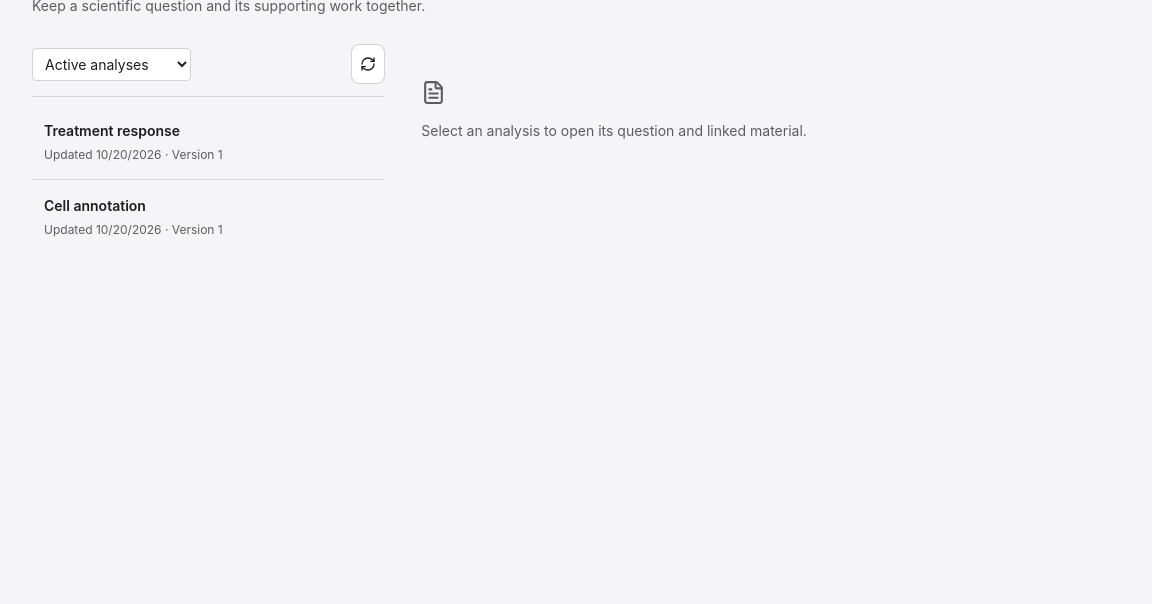
Test: durable project analyses › keeps edited source through a conflict and rebases only after an explicit choice
The width and height of the screenshot is (1152, 604).
Click the button "Treatment response Updated 10/20/2026 · Version 1": (112, 130) [32, 105, 385, 179]
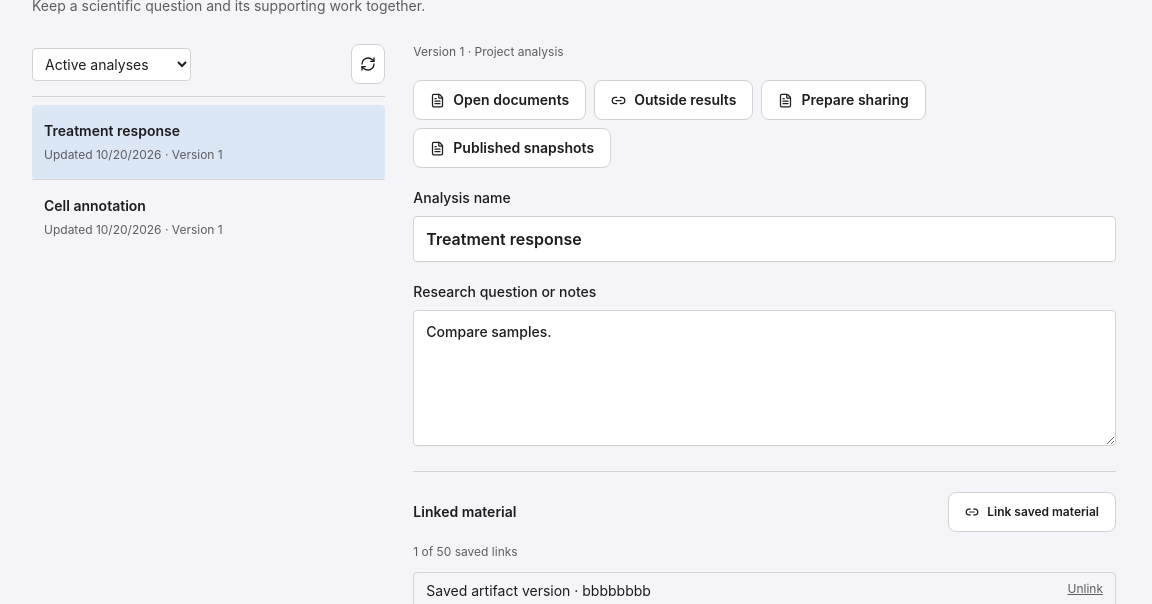
expect the field labelled "Analysis name" holds "Treatment response": met
Replace the text in the field labelled "Analysis name" with "My edited question": (765, 239) [413, 216, 1116, 262]
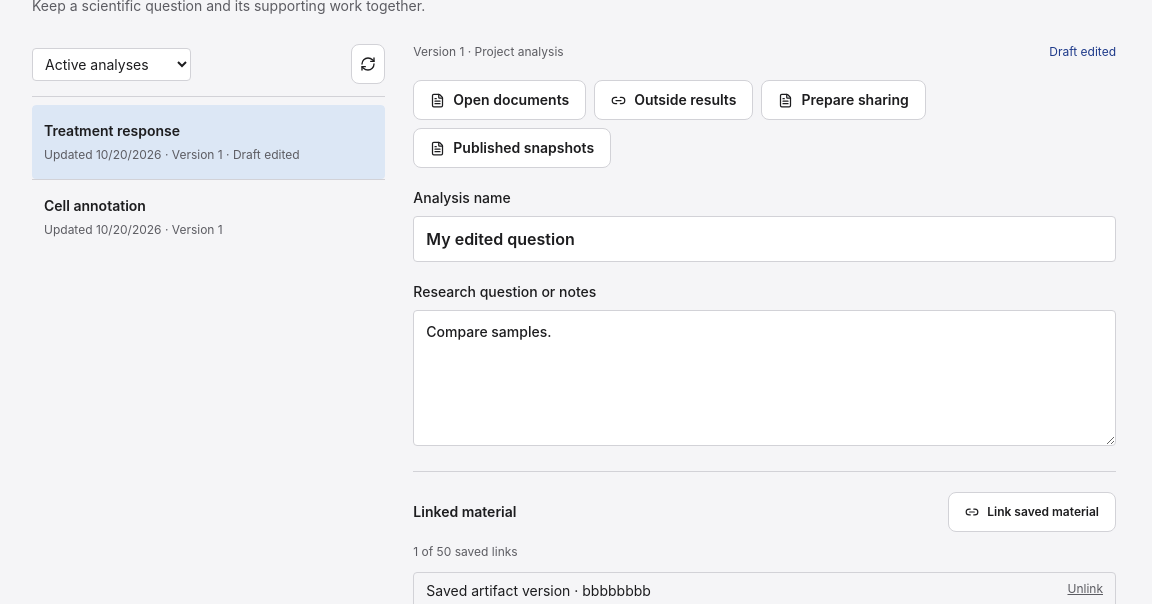
Replace the text in the text box labelled "Research question or notes" with "My interpretation.": (765, 378) [413, 310, 1116, 446]
(page scrolled)
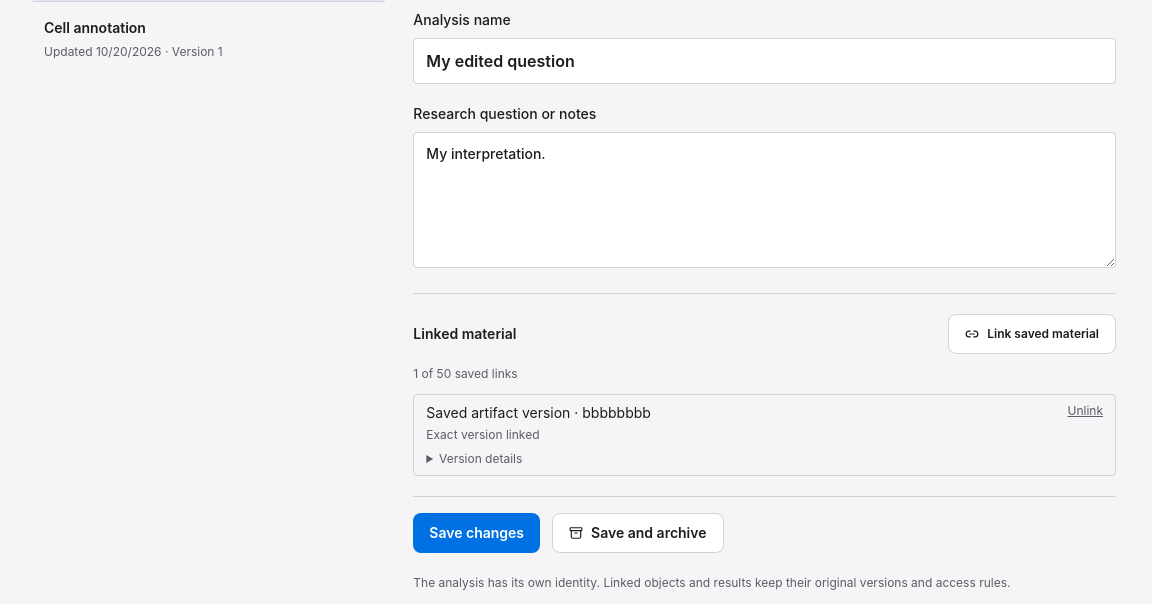
Click the button "Save changes": (477, 533) [413, 513, 540, 553]
(page scrolled)
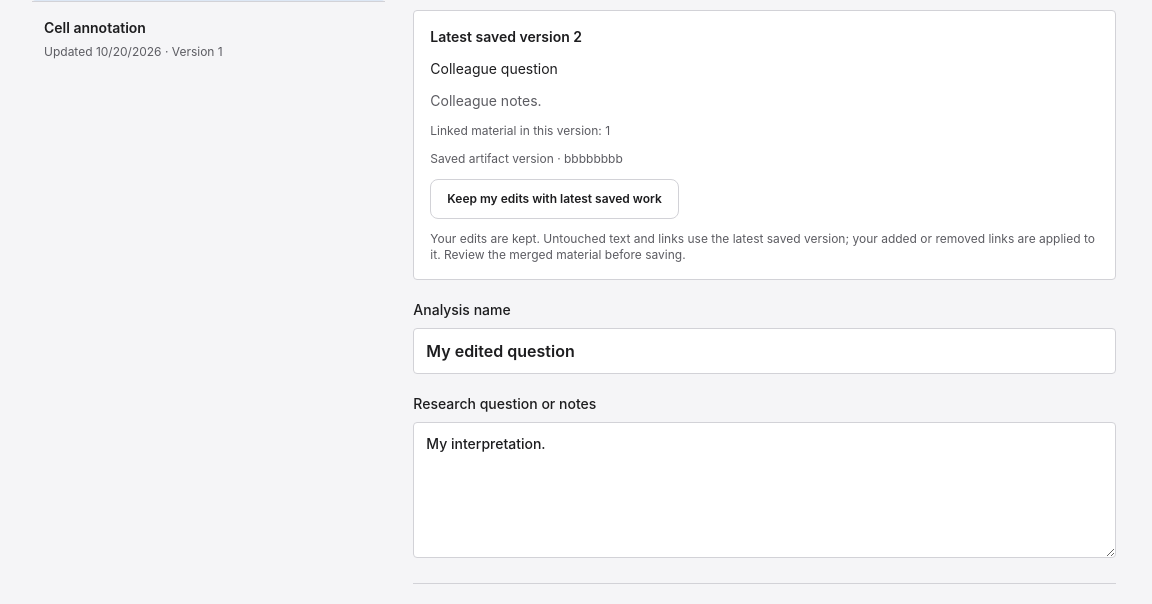
expect the element named "Newer saved version" is shown: met, box [413, 10, 1116, 280]
Click the button "Keep my edits with latest saved work": (555, 199) [430, 179, 679, 219]
(page scrolled)
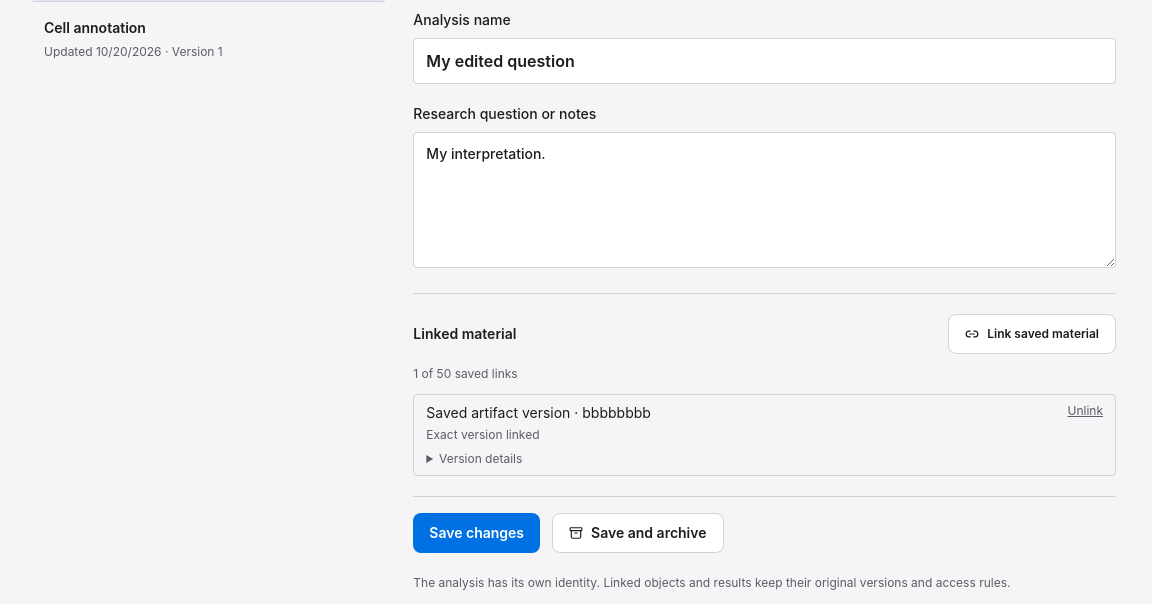
Click the button "Save changes": (477, 533) [413, 513, 540, 553]
(page scrolled)
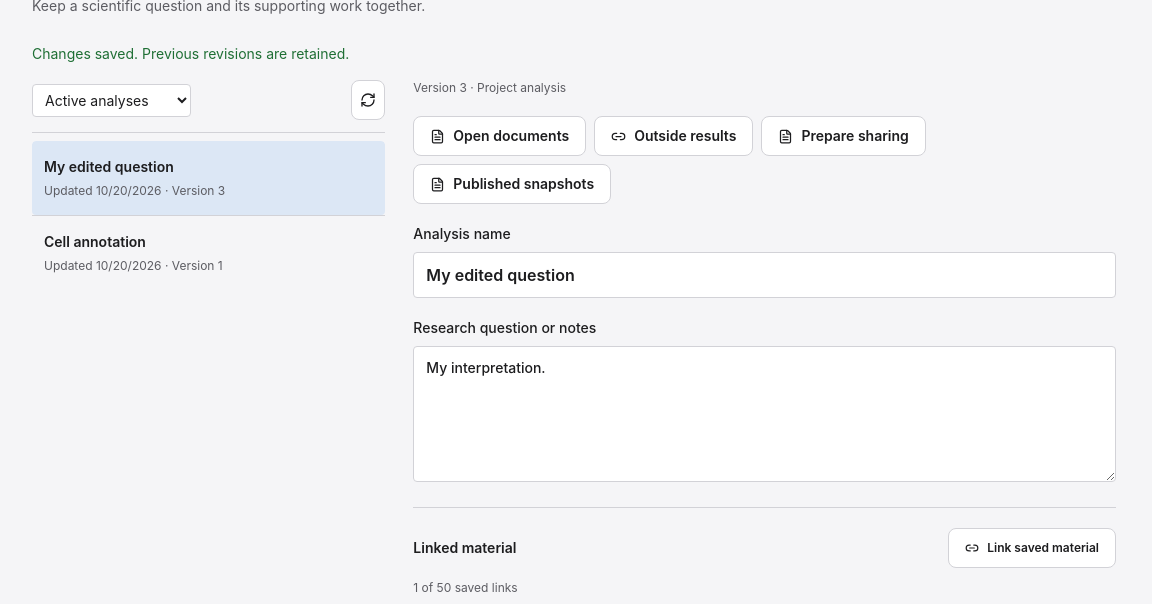
expect the text "Changes saved. Previous revisions are retained." is shown: met, box [32, 45, 349, 62]
